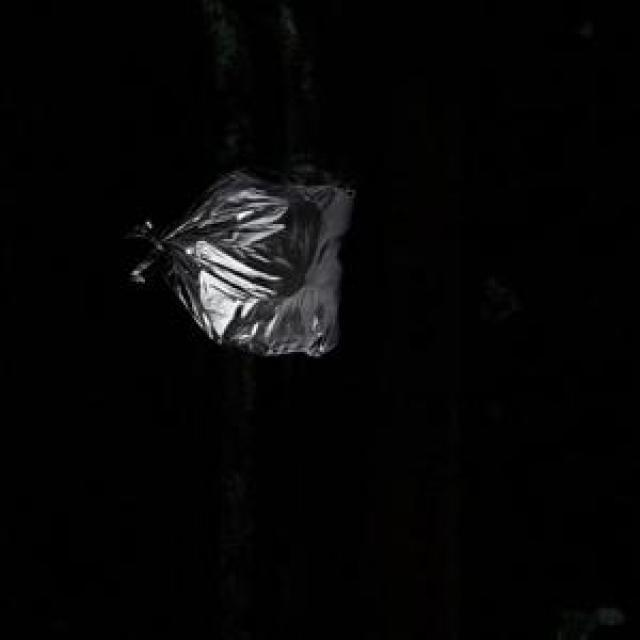waste: (126, 171, 352, 357)
